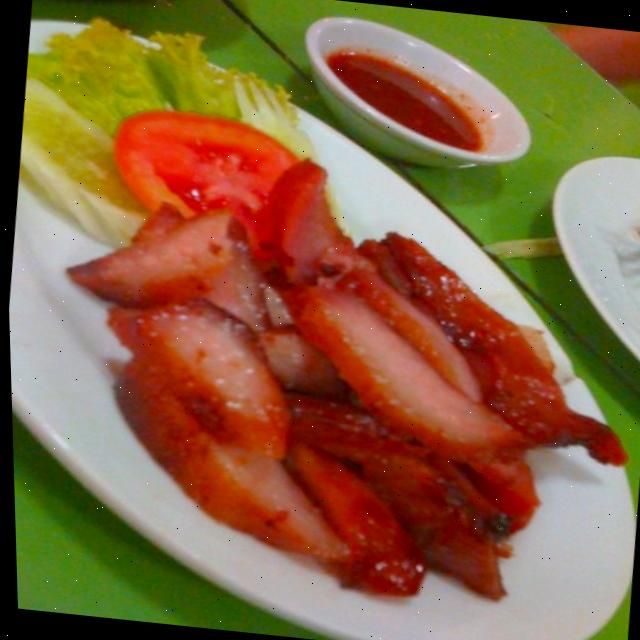猪肉菜式: (33, 150, 625, 632)
